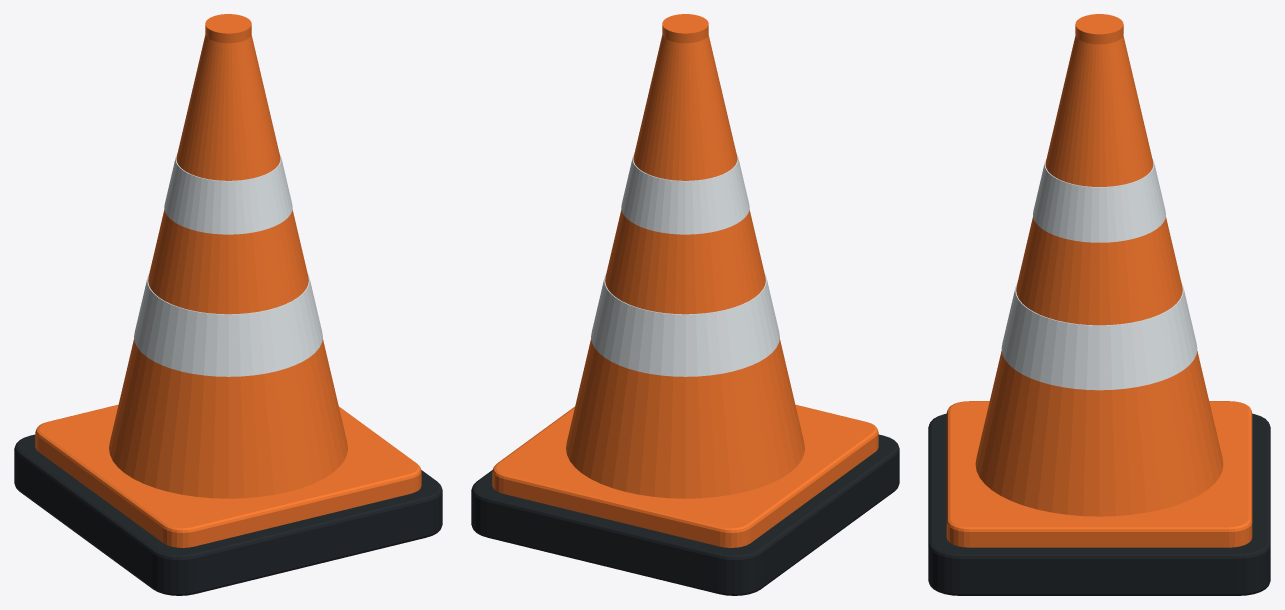
Rendered from SM_VR_TrafficCone.fbx.
3 renders of one model, left to right at view 1: azimuth 30°, elevation 25°; view 2: azimuth 150°, elevation 25°; view 3: azimuth 270°, elevation 25°, orthographic. The views are drawn at different scales.
Visible parts, largest first — view 1: SM_VR_TrafficCone; view 2: SM_VR_TrafficCone; view 3: SM_VR_TrafficCone.
Part boxes in pixels (x1,y1,x2,y2): SM_VR_TrafficCone: (14, 14, 442, 595); SM_VR_TrafficCone: (471, 14, 899, 595); SM_VR_TrafficCone: (928, 14, 1270, 595).
Size of the model in its own units: 37 by 37 by 59.7.
